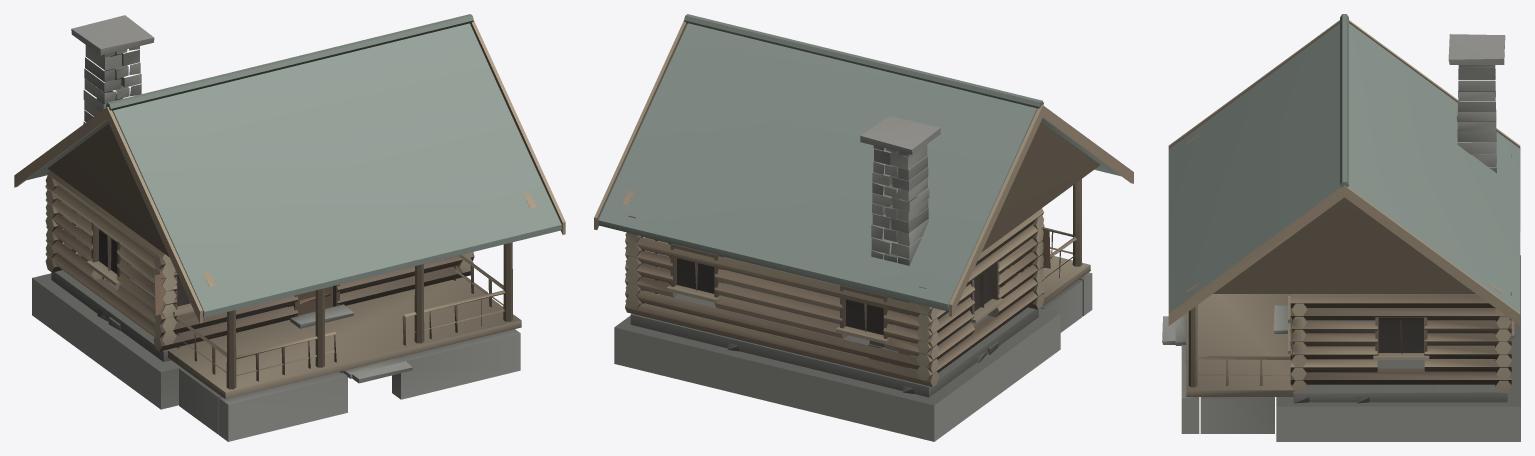
File: porch.lod1.glb
3 views of the same model, side by side, from view 1: azimuth 30°, elevation 25°; view 2: azimuth 150°, elevation 25°; view 3: azimuth 270°, elevation 25° (orthographic). The views are drawn at different scales.
Bounding box in the file's own units: 10.58 × 7.9 × 9.48.
